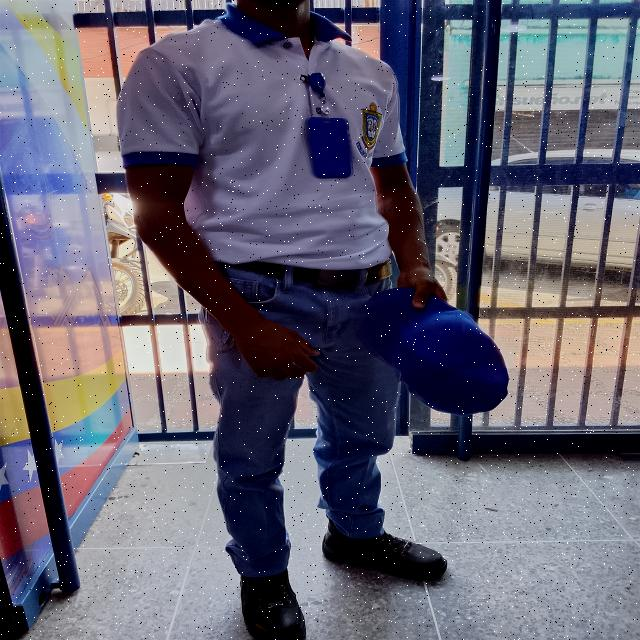carnet: (305, 117, 353, 179)
uniforme_superior: (116, 2, 409, 271)
